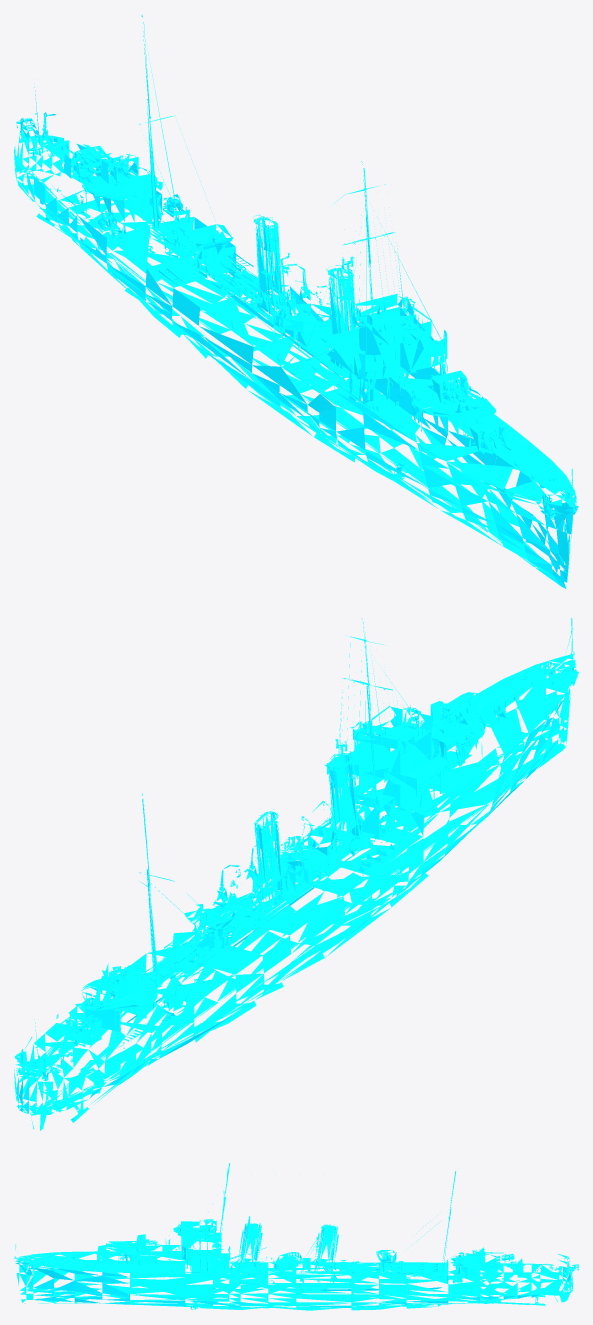
File: PBSD105.glb
The picture shows the model from 3 angles, top to bottom: view 1: azimuth 30°, elevation 25°; view 2: azimuth 150°, elevation 25°; view 3: azimuth 270°, elevation 25°; orthographic projection. The views are drawn at different scales.
Parts seen in each view (by area): view 1: hull_mid, hull_bow, hull_stern, main_battery, torpedo; view 2: hull_mid, hull_bow, hull_stern, main_battery, torpedo; view 3: hull_mid, hull_bow, hull_stern, main_battery, torpedo.
Part boxes in pixels (left/top/right/bottom): hull_mid: left=56, top=14, right=503, bottom=512; hull_bow: left=417, top=421, right=578, bottom=588; hull_stern: left=14, top=83, right=130, bottom=260; main_battery: left=59, top=142, right=510, bottom=454; torpedo: left=144, top=220, right=271, bottom=299; hull_mid: left=56, top=618, right=503, bottom=1085; hull_bow: left=431, top=618, right=578, bottom=824; hull_stern: left=14, top=1019, right=148, bottom=1130; main_battery: left=58, top=688, right=511, bottom=1046; torpedo: left=145, top=896, right=272, bottom=980; hull_mid: left=106, top=1163, right=514, bottom=1310; hull_bow: left=14, top=1244, right=129, bottom=1304; hull_stern: left=480, top=1254, right=578, bottom=1306; main_battery: left=78, top=1234, right=541, bottom=1275; torpedo: left=339, top=1260, right=437, bottom=1275.
Size of the model in its own units: 0.6705 by 1.93 by 6.63.
